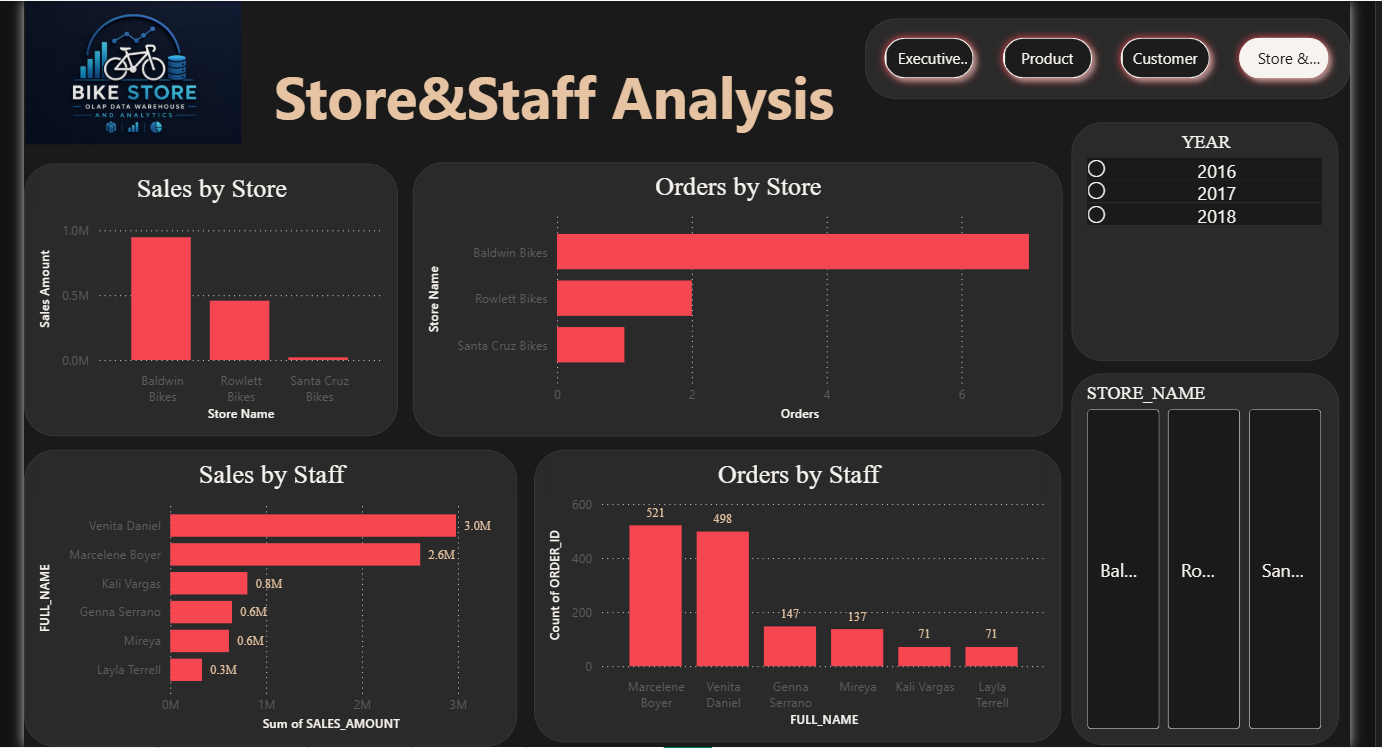

This screenshot's page, from the dashboard's own definition file:
{"tool":"powerbi","page":{"name":"Stores&Staffs","canvas":[1280,720],"ordinal":3},"visuals":[{"type":"image","box":[0,0,211.3,138.6],"z":0},{"type":"listSlicer","fields":{"Values":["DIM_DATE.YEAR"]},"box":[1011.3,116.6,258,230.5],"z":1000},{"type":"textbox","box":[211,2.9,601.5,91.2],"z":2000},{"type":"advancedSlicerVisual","fields":{"Values":["DIM_STORES.STORE_NAME"]},"box":[1011,359.5,258.2,358.3],"z":3000},{"type":"pageNavigator","box":[812.5,2.9,467.5,91.2],"z":4000},{"type":"clusteredBarChart","title":"Orders by Store","fields":{"Category":["DIM_STORES.STORE_NAME"],"Y":["CountNonNull(FACT_SALES.ORDER_ID)"]},"box":[374.6,155.1,627.1,264.8],"z":5000},{"type":"columnChart","title":"Sales by Store","fields":{"Category":["DIM_STORES.STORE_NAME"],"Y":["Sum(FACT_SALES.SALES_AMOUNT)"]},"box":[0,156.4,360.9,263.5],"z":6000},{"type":"clusteredBarChart","title":"Sales by Staff","fields":{"Category":["DIM_STAFFS.FULL_NAME"],"Y":["Sum(FACT_SALES.SALES_AMOUNT)"]},"box":[0,433.2,476.2,286.8],"z":7000},{"type":"clusteredColumnChart","title":" Orders by Staff","fields":{"Category":["DIM_STAFFS.FULL_NAME"],"Y":["CountNonNull(FACT_SALES.ORDER_ID)"]},"box":[492.6,433.6,509.1,282.7],"z":8000}]}

Visuals, with their boxes on the page's 1280x720 design canvas (x1, y1, x2, y2). These are canvas units, not pixel positions in the 1382x748 screenshot, which may show the page scaled, cropped or inside an application window:
image: 0, 0, 211, 139
listSlicer - DIM_DATE.YEAR: 1011, 117, 1269, 347
textbox: 211, 3, 812, 94
advancedSlicerVisual - DIM_STORES.STORE_NAME: 1011, 360, 1269, 718
pageNavigator: 812, 3, 1280, 94
"Orders by Store" clusteredBarChart: 375, 155, 1002, 420
"Sales by Store" columnChart: 0, 156, 361, 420
"Sales by Staff" clusteredBarChart: 0, 433, 476, 720
" Orders by Staff" clusteredColumnChart: 493, 434, 1002, 716
